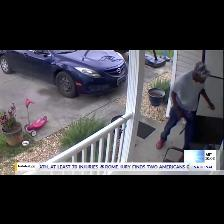person: (157, 62, 214, 150)
